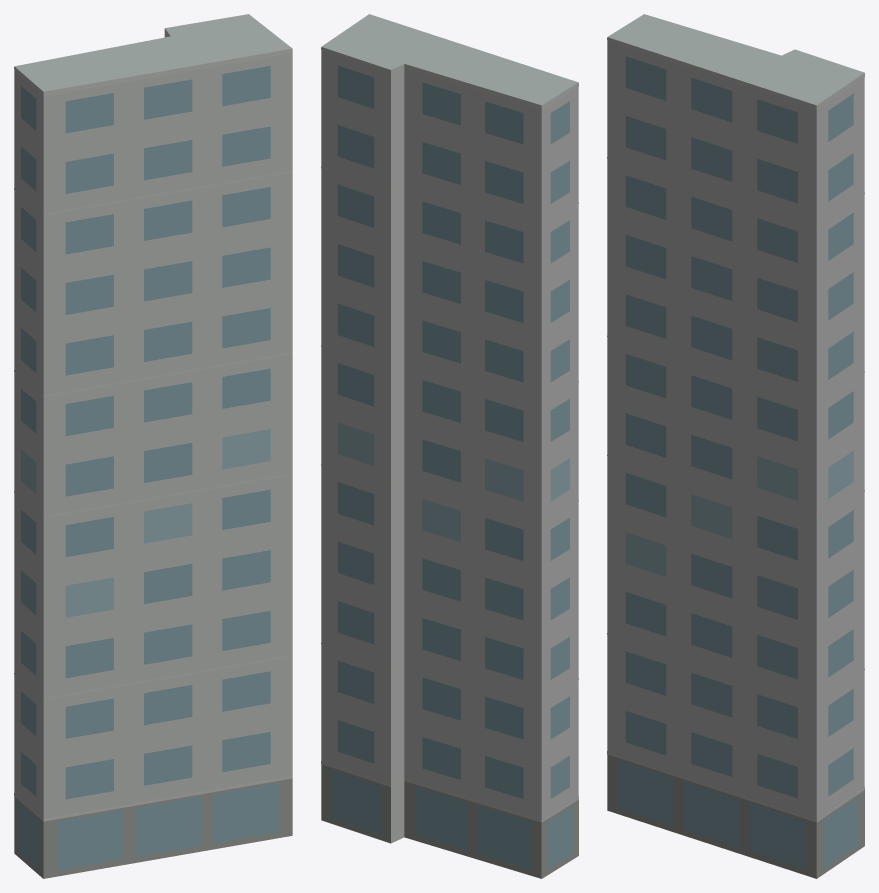
File: survey-upis-32529200.glb
3 renders of one model, left to right at view 1: azimuth 30°, elevation 25°; view 2: azimuth 150°, elevation 25°; view 3: azimuth 330°, elevation 25°, orthographic.
Visible parts, largest first — view 1: survey-upis-32529200.tmp; view 2: survey-upis-32529200.tmp; view 3: survey-upis-32529200.tmp.
Part boxes in pixels (box(x1,y1,x2,y2)): survey-upis-32529200.tmp: box(14, 14, 292, 878); survey-upis-32529200.tmp: box(321, 14, 578, 878); survey-upis-32529200.tmp: box(607, 14, 864, 878).
Bounding box in the file's own units: 12.34 × 39.65 × 4.85.
